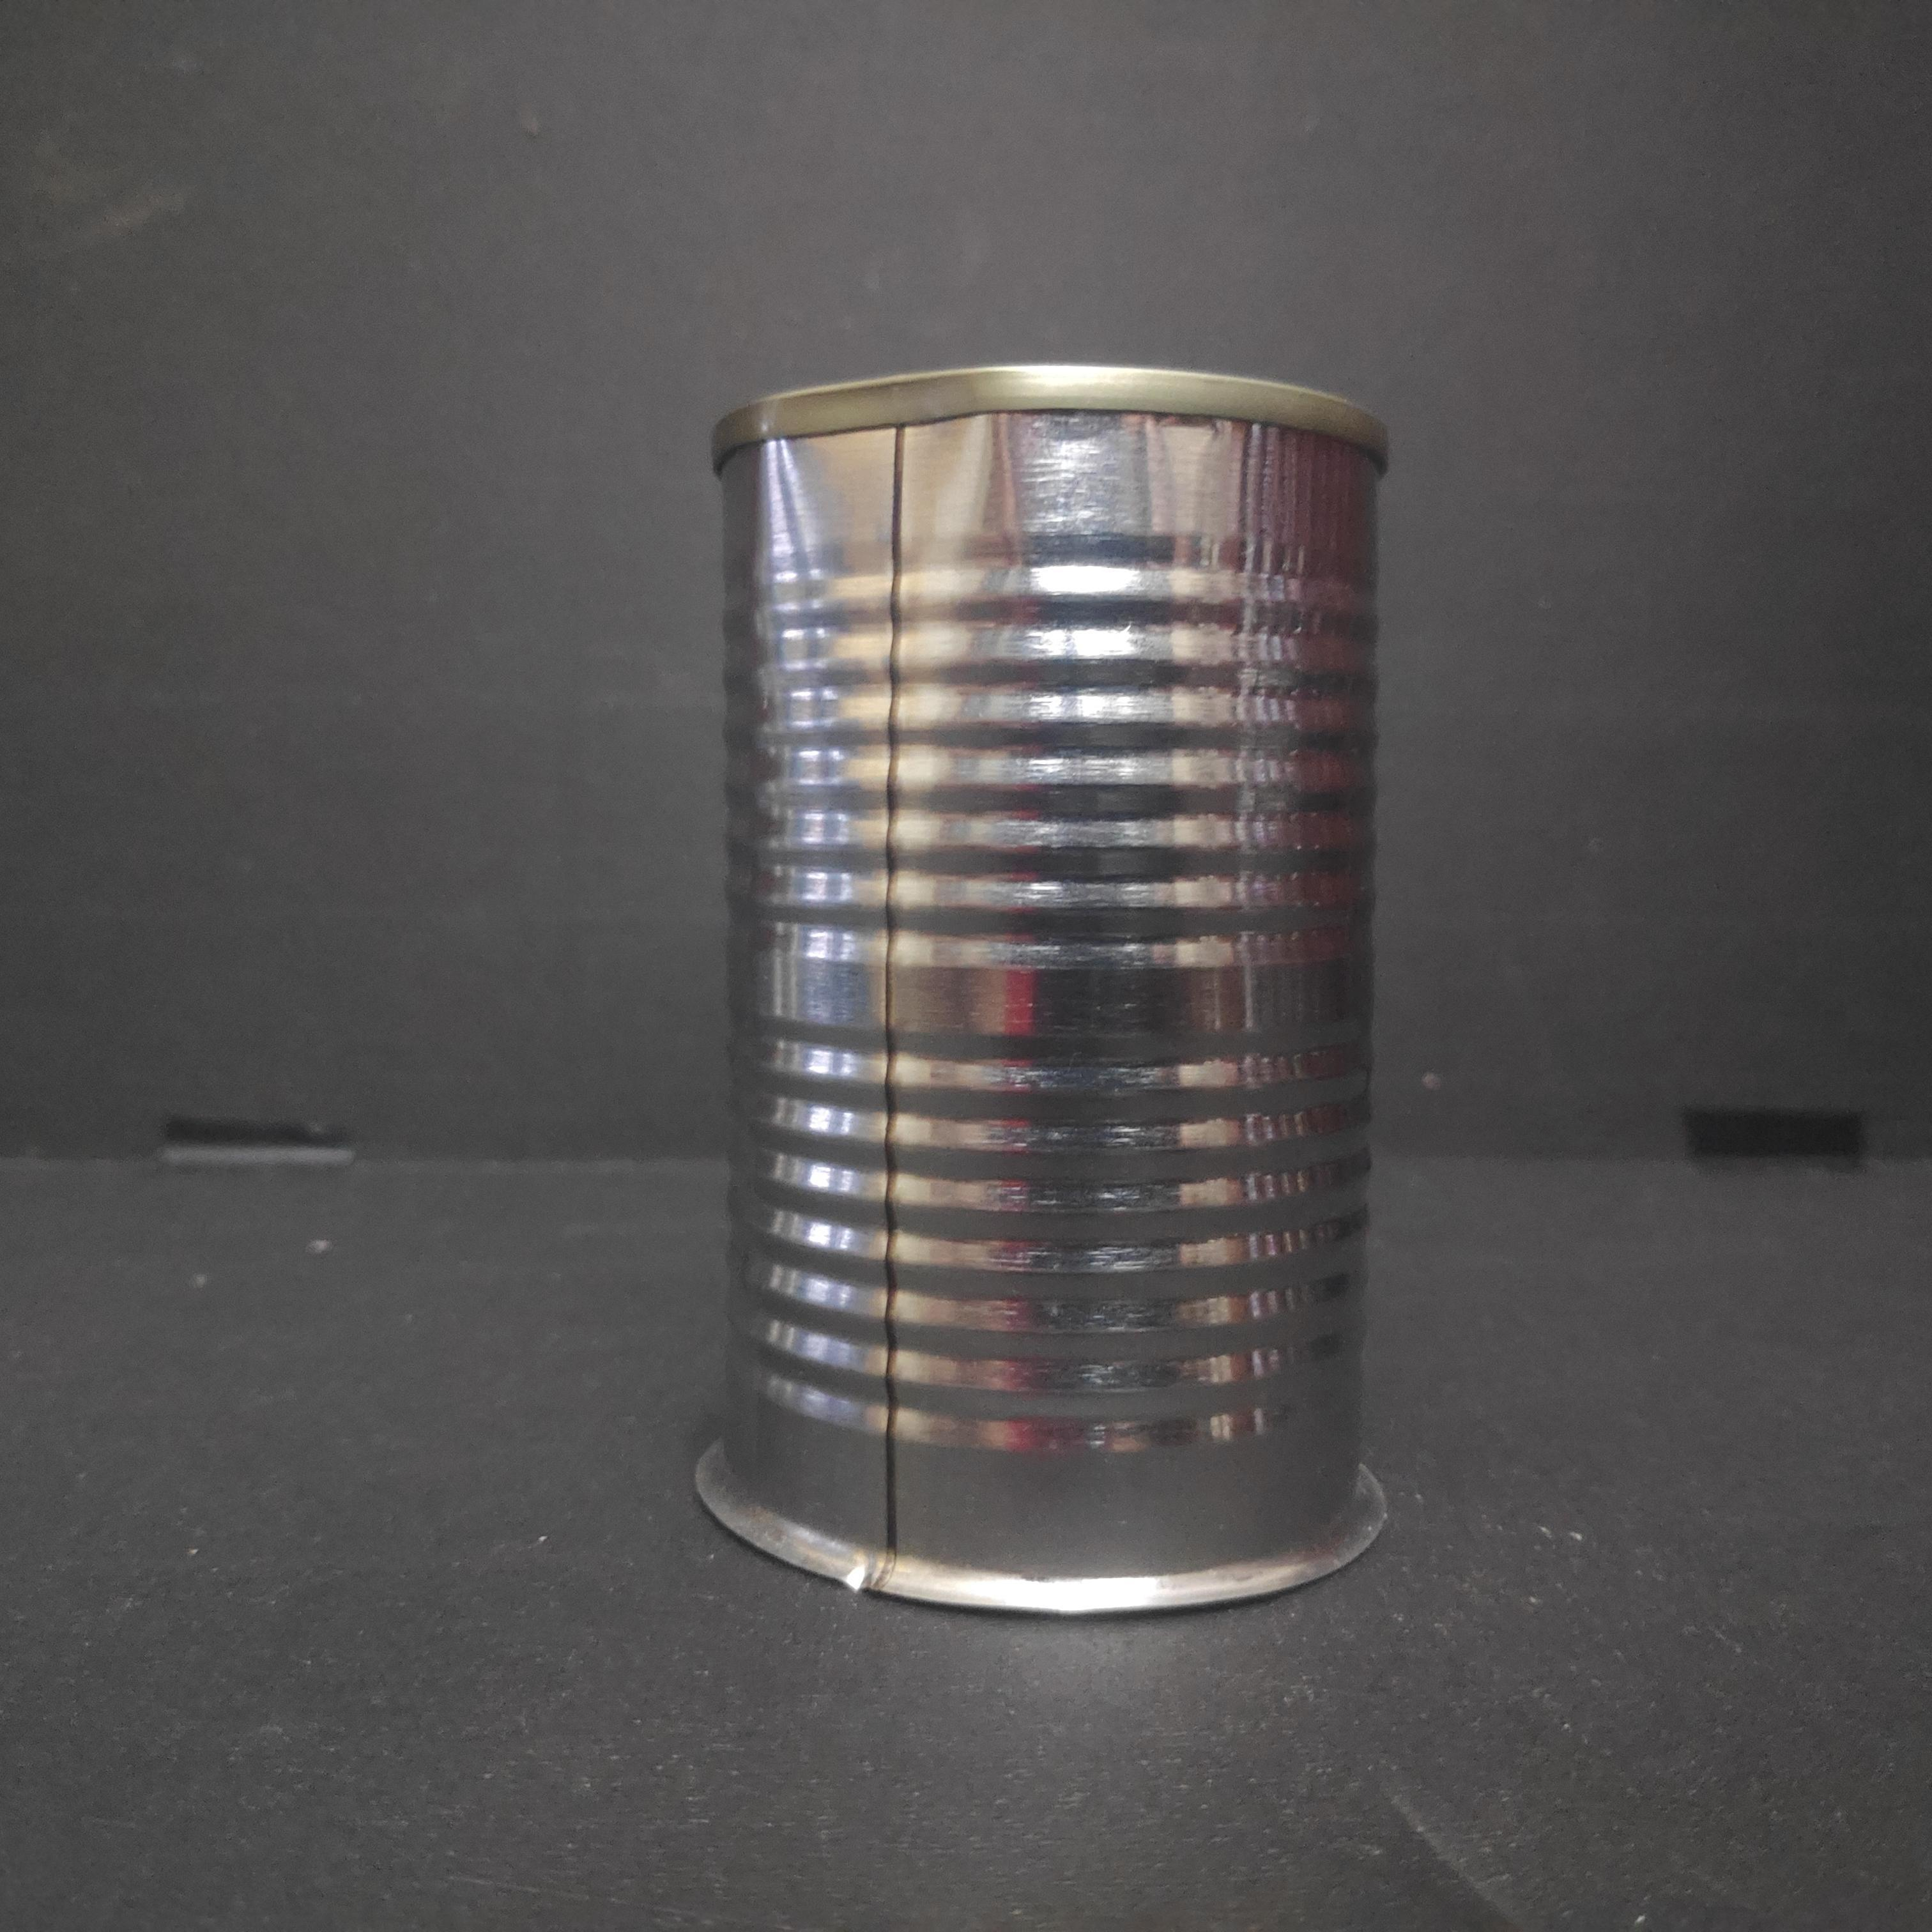Dented: (686, 341, 1419, 1619)
